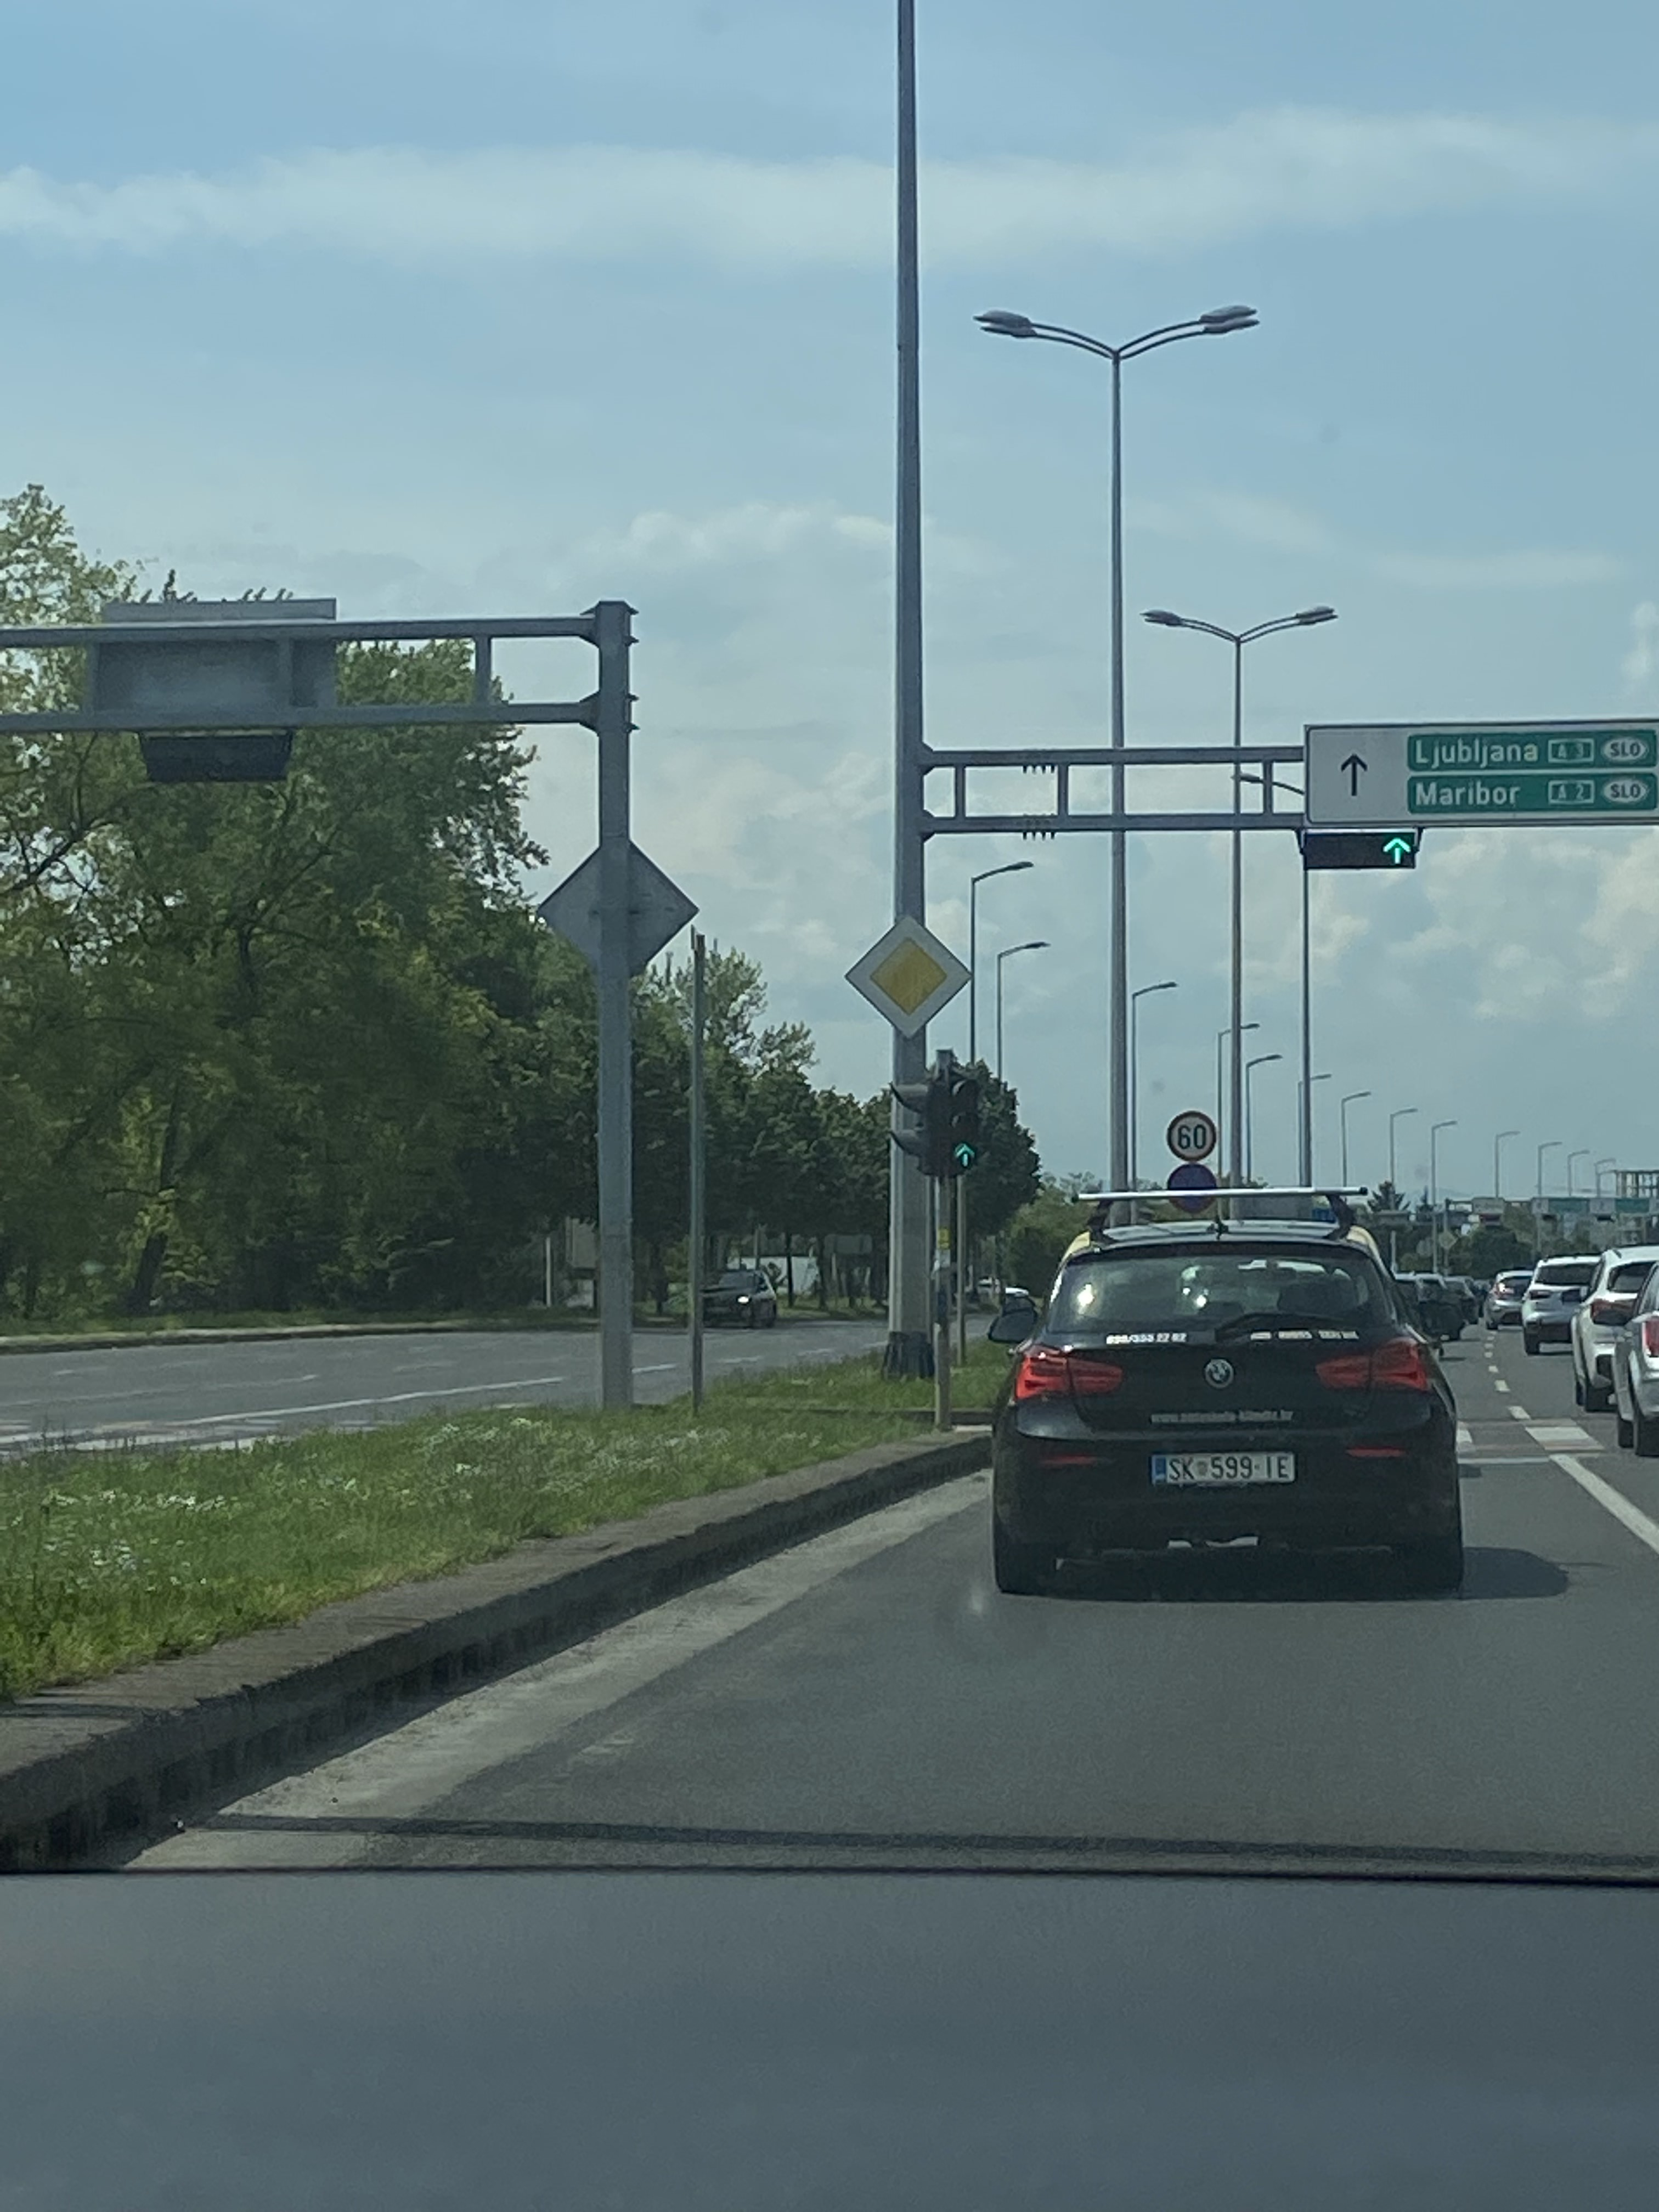Cesta s prednošću prolaska: (843, 914, 972, 1040)
Ograničenje brzine 60: (1166, 1111, 1216, 1162)
